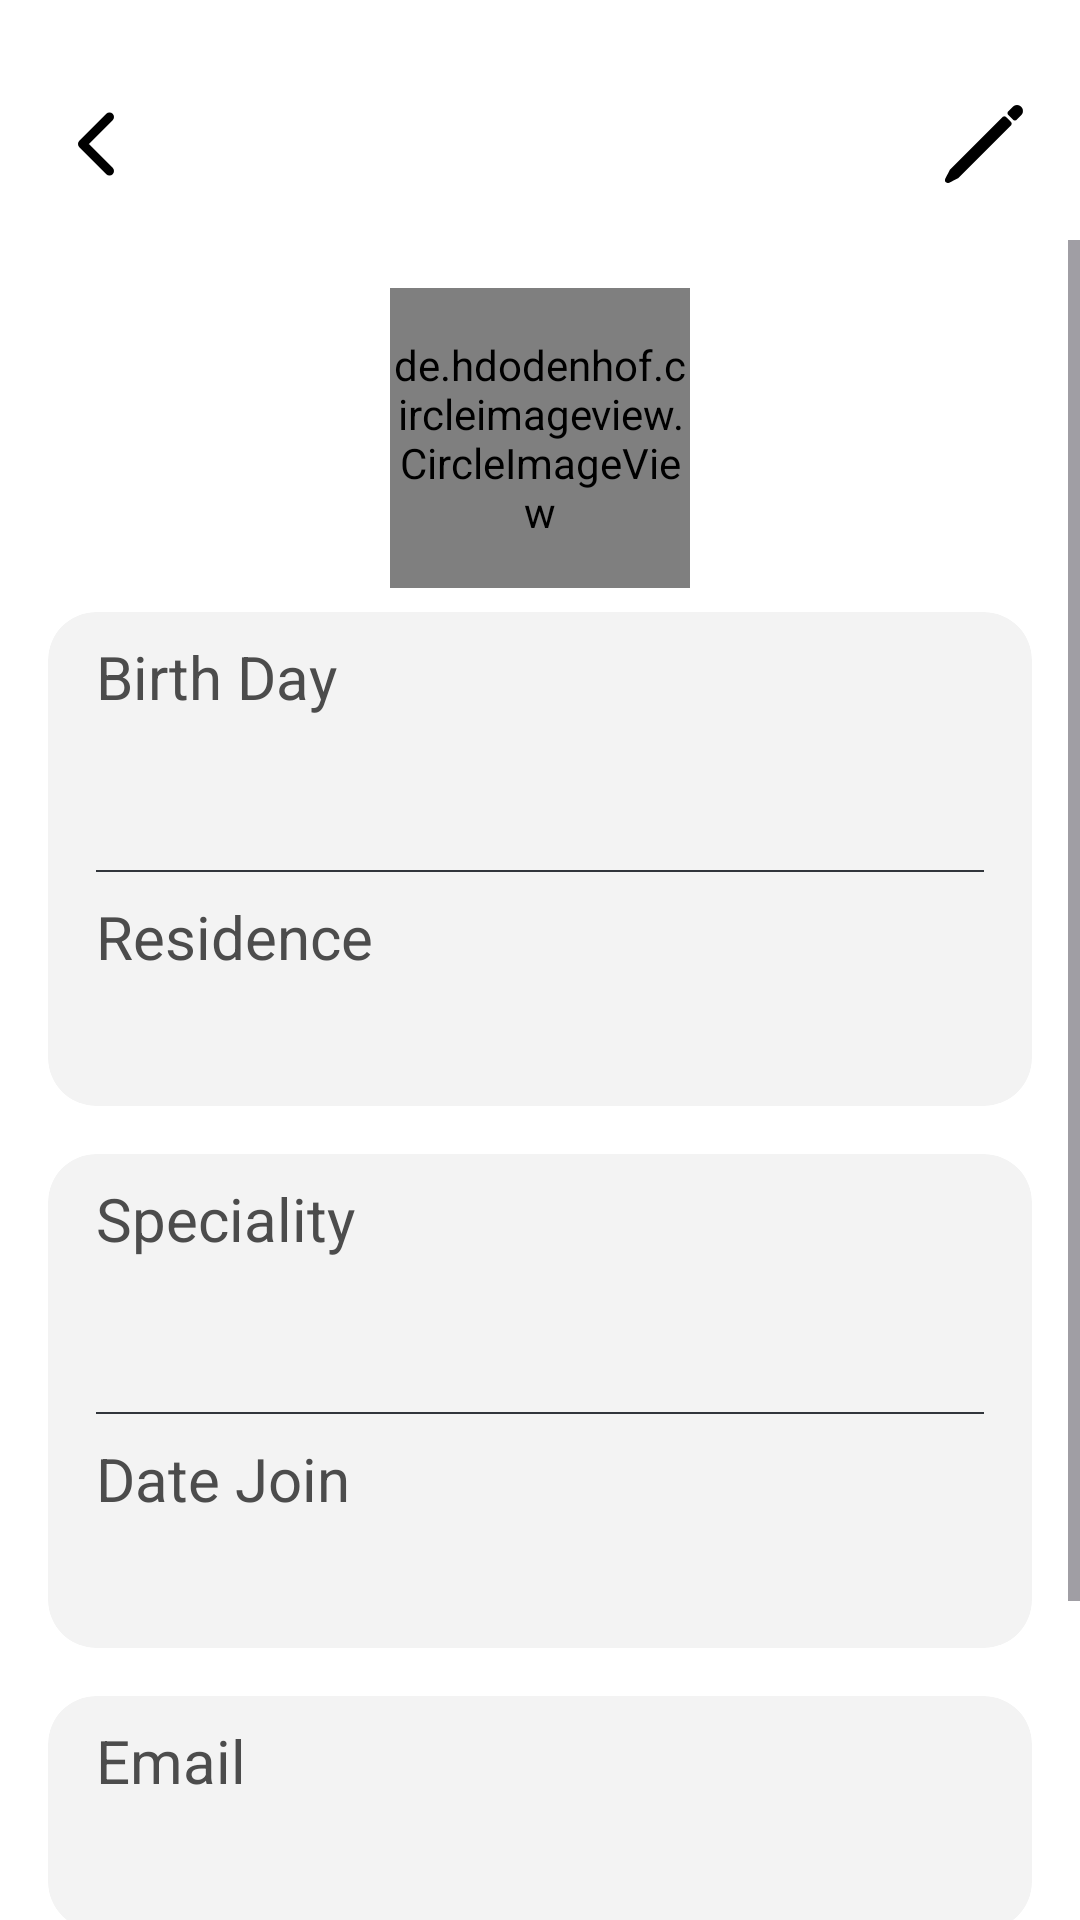

Screen size 1080px x 1920px. Icon name, then its center in pixels as (x,y):
back: (96,144)
pencil: (984,144)
